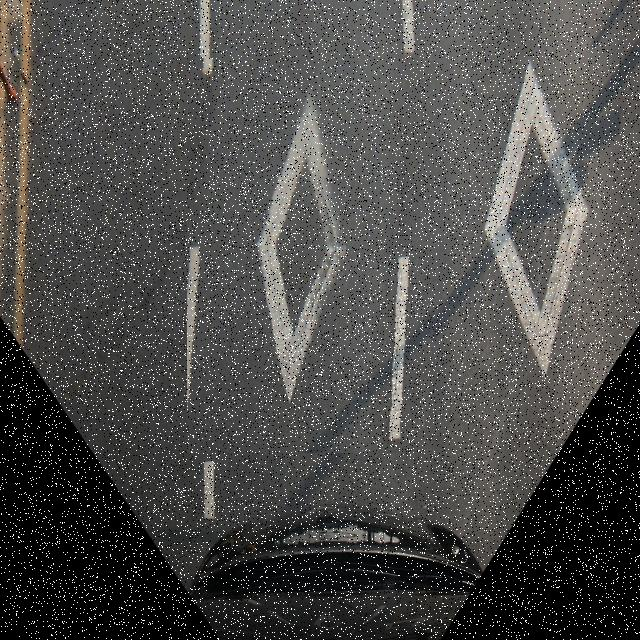diamond: (187, 59, 451, 453)
